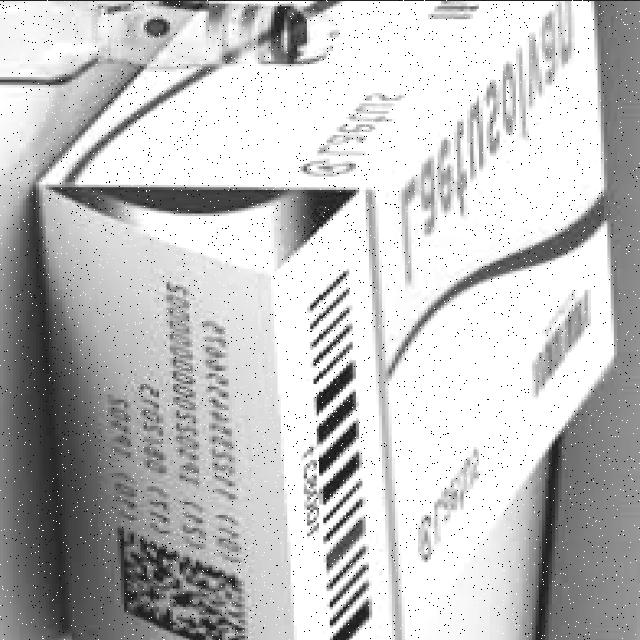datamatrix: (98, 519, 251, 640)
